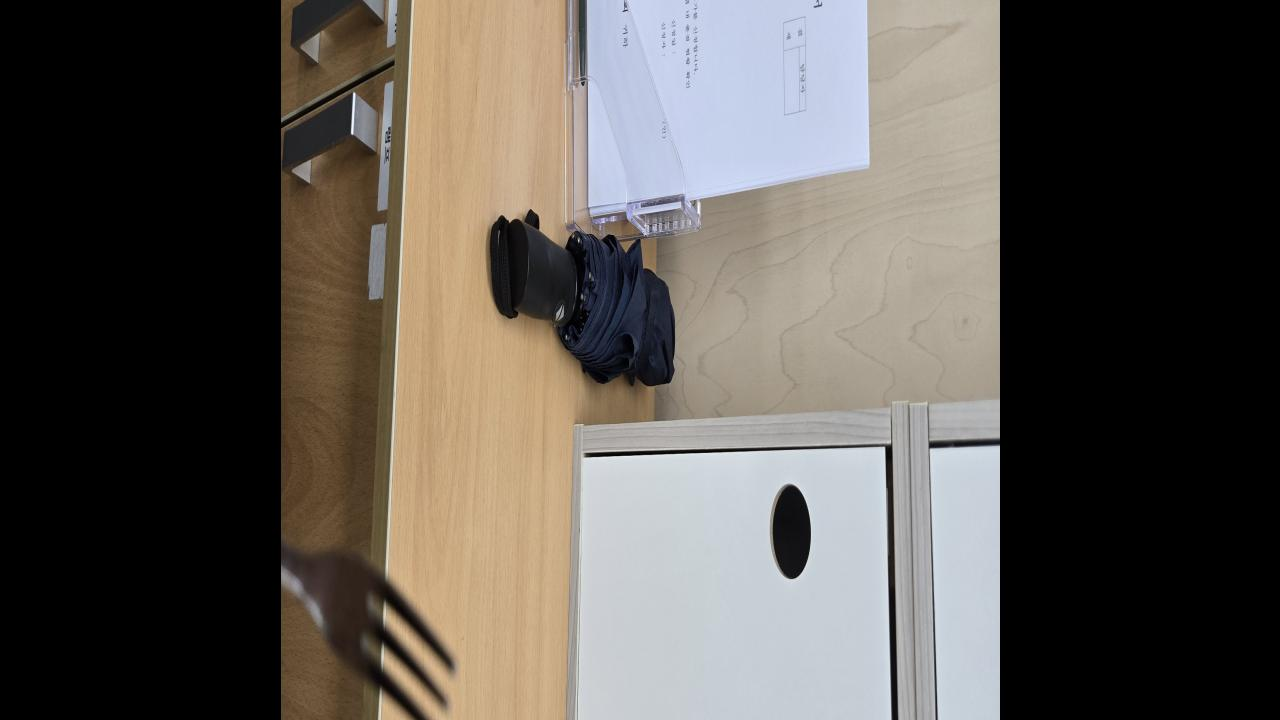fork: (280, 538, 459, 720)
